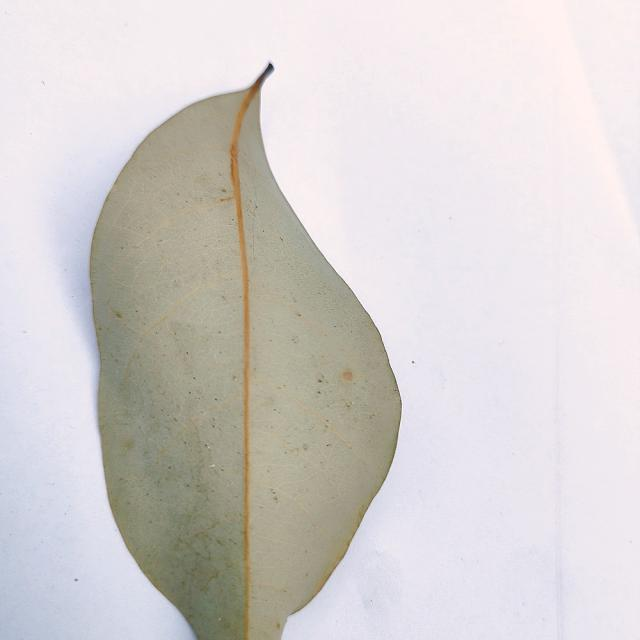Dry_Leaf-Lychee: (88, 66, 403, 639)
